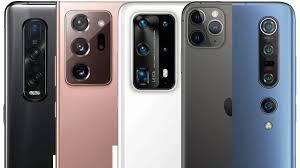Smartphone: (119, 2, 181, 168), (57, 1, 117, 168), (233, 5, 290, 168), (8, 4, 55, 168), (184, 3, 230, 168)
